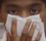with_mask: (1, 1, 46, 41)
